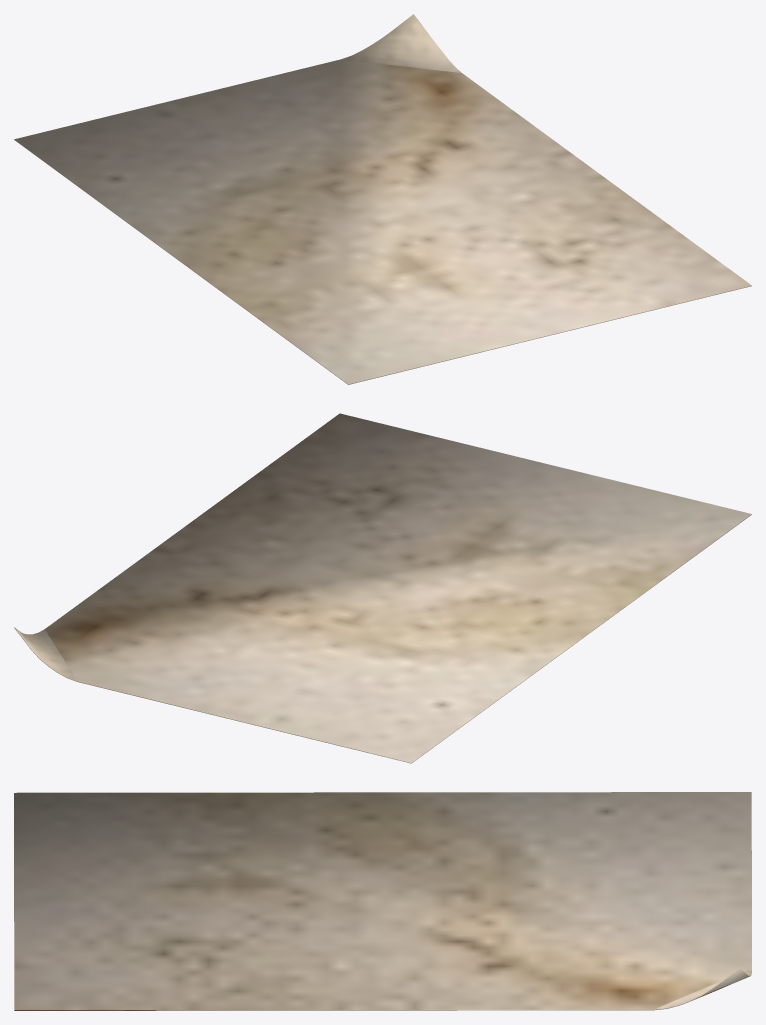
The model's file is NotaCon.fbx.
The picture shows the model from 3 angles, top to bottom: view 1: azimuth 30°, elevation 25°; view 2: azimuth 150°, elevation 25°; view 3: azimuth 270°, elevation 25°; orthographic projection. The views are drawn at different scales.
Visible parts, largest first — view 1: Plane; view 2: Plane; view 3: Plane.
Boxes of the visible parts, box(x1,y1,x2,y2) form: Plane: box(14, 14, 751, 384); Plane: box(14, 413, 751, 763); Plane: box(14, 792, 751, 1010).
Size of the model in its own units: 200 by 16.19 by 287.
